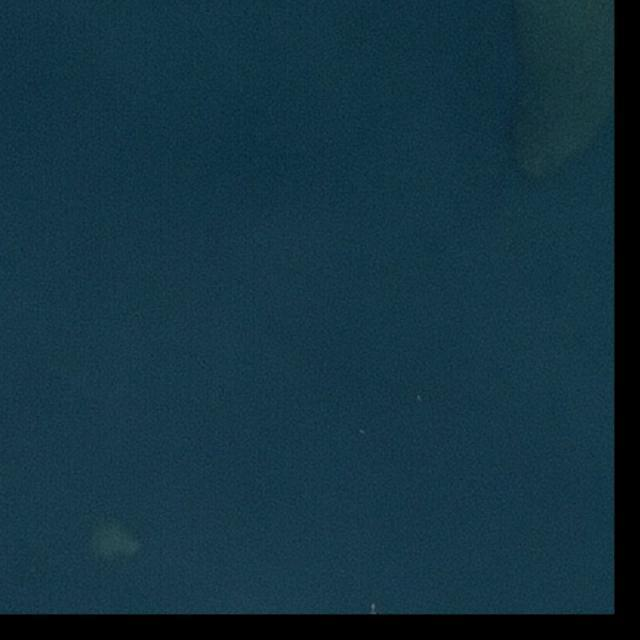ship: (358, 427, 368, 438), (370, 603, 375, 610), (418, 395, 422, 403)
